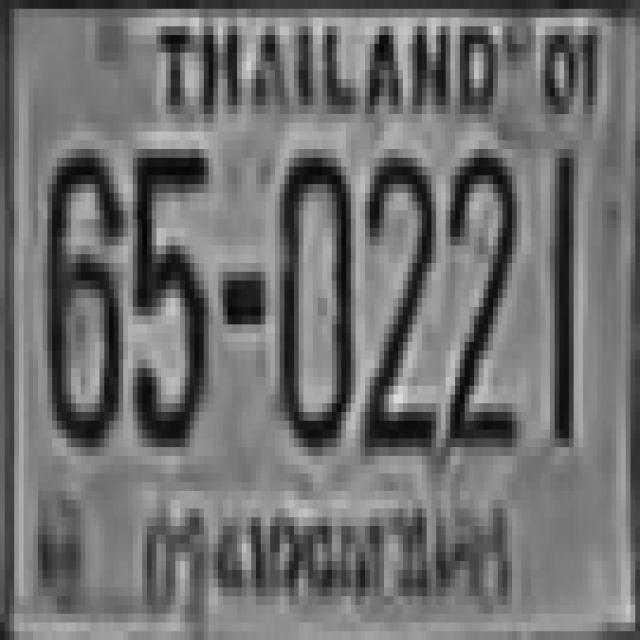0: (275, 144, 351, 442)
1: (545, 149, 574, 438)
2: (361, 149, 432, 447), (444, 144, 514, 442)
5: (128, 140, 204, 438)
6: (43, 140, 119, 438)
Bangkok: (135, 491, 522, 627)
